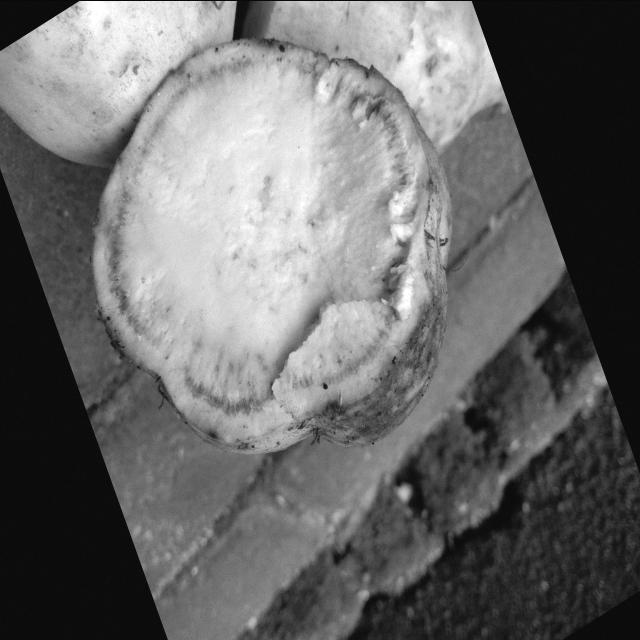Healthy Sweet Potato: (92, 40, 428, 452)
